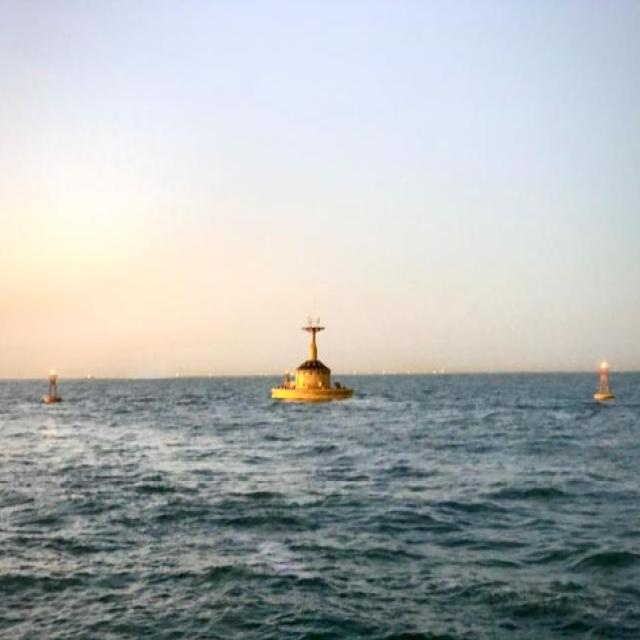buoy: (268, 309, 354, 401), (595, 359, 615, 405), (41, 369, 62, 408)
